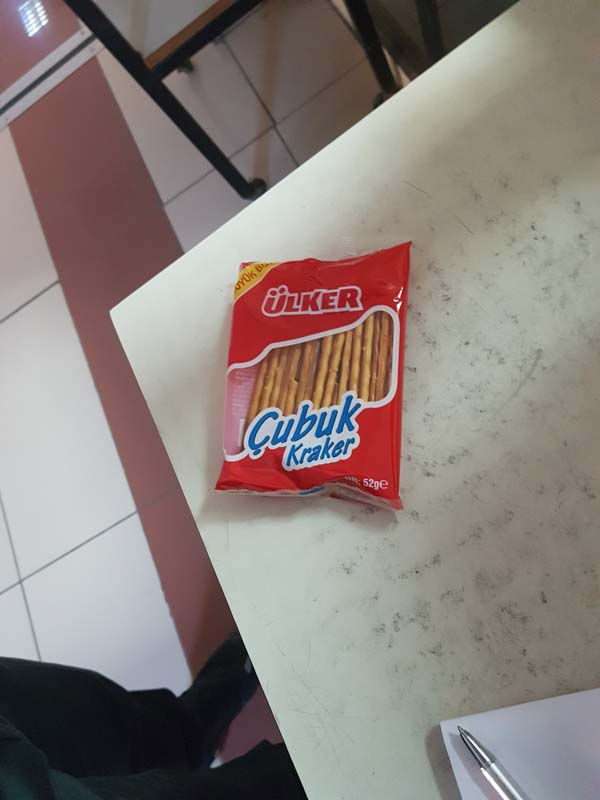eticubuk: (220, 258, 405, 498)
